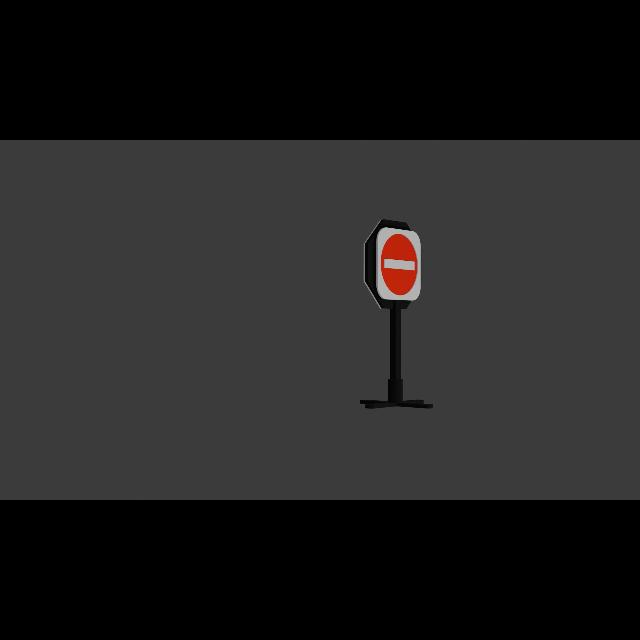sign_noentry: (379, 232, 419, 299)
